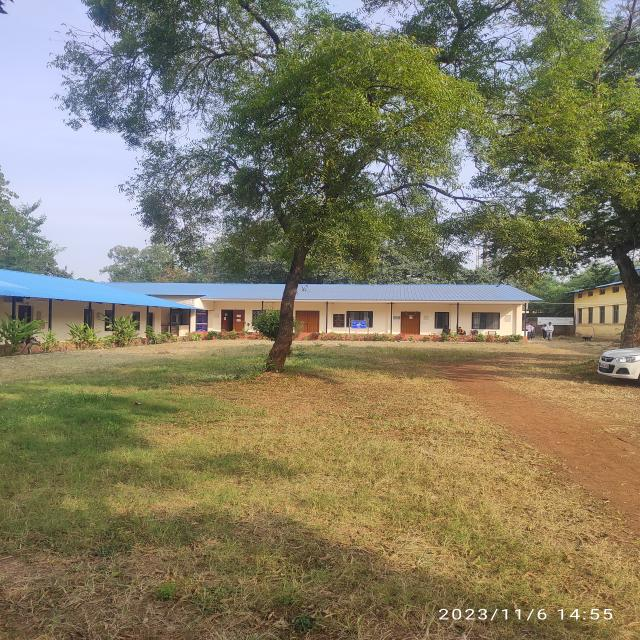Neem Tree: (118, 4, 527, 370)
